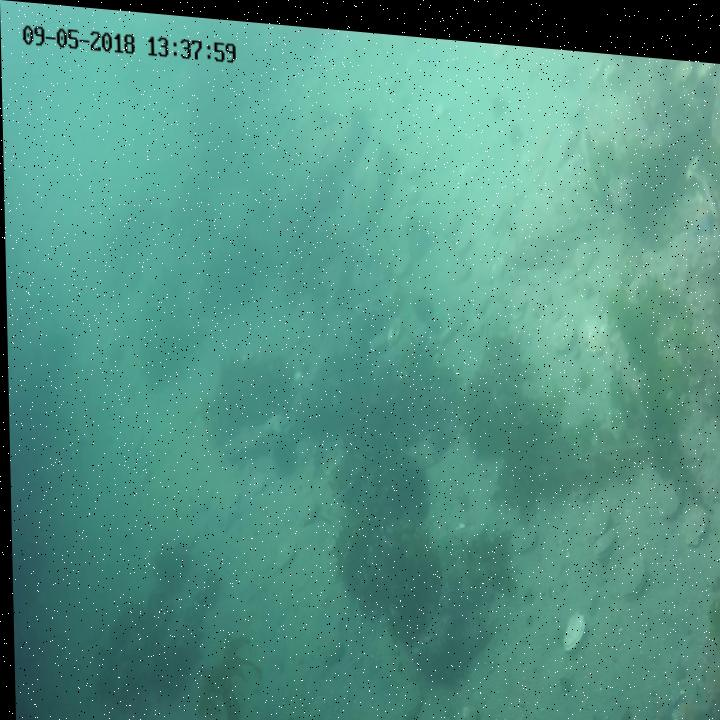scallop: (614, 539, 648, 592), (558, 600, 586, 647), (678, 491, 707, 534), (580, 489, 609, 530), (393, 672, 421, 714), (591, 514, 618, 553), (442, 694, 477, 720), (509, 515, 539, 545), (551, 313, 577, 347), (270, 534, 296, 568), (506, 271, 531, 304), (585, 314, 610, 347), (485, 291, 511, 322), (527, 278, 553, 308), (655, 481, 680, 512), (318, 628, 342, 660), (539, 292, 567, 319), (570, 232, 594, 260), (452, 218, 472, 248), (472, 279, 496, 304), (367, 321, 388, 347), (463, 304, 484, 329), (385, 311, 402, 340), (391, 245, 410, 270), (423, 707, 453, 720), (450, 253, 468, 274)
starfish: (668, 669, 716, 720), (208, 489, 243, 534), (689, 188, 718, 231), (261, 400, 291, 436), (653, 716, 696, 720)
